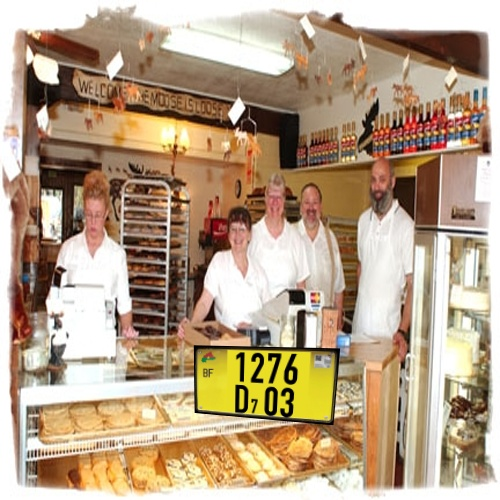plate: (183, 328, 352, 432)
